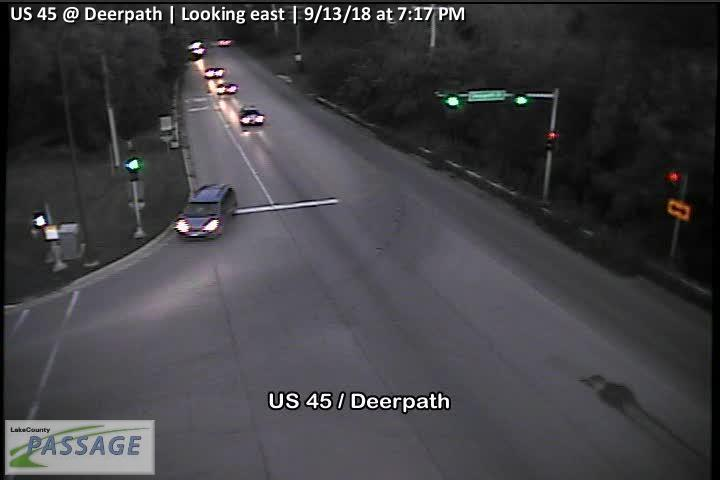SUV: (173, 183, 237, 241)
Sedan: (238, 105, 266, 128), (216, 79, 239, 95), (203, 66, 226, 80)
